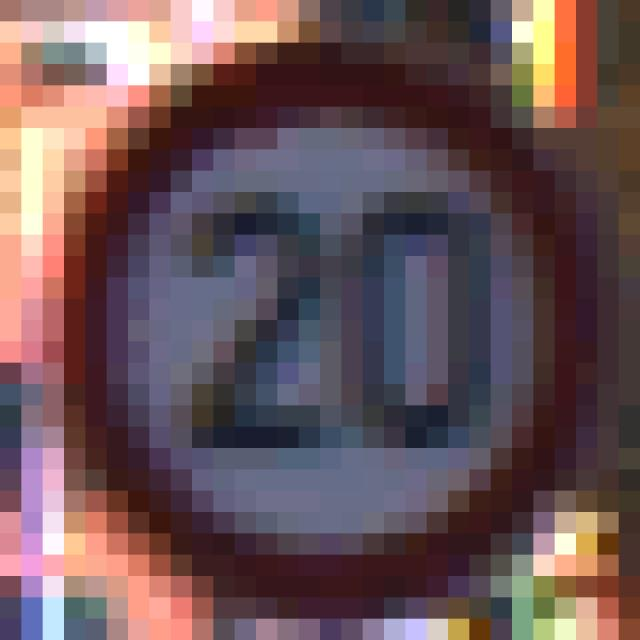forb_speed_over_20: (53, 26, 608, 616)
